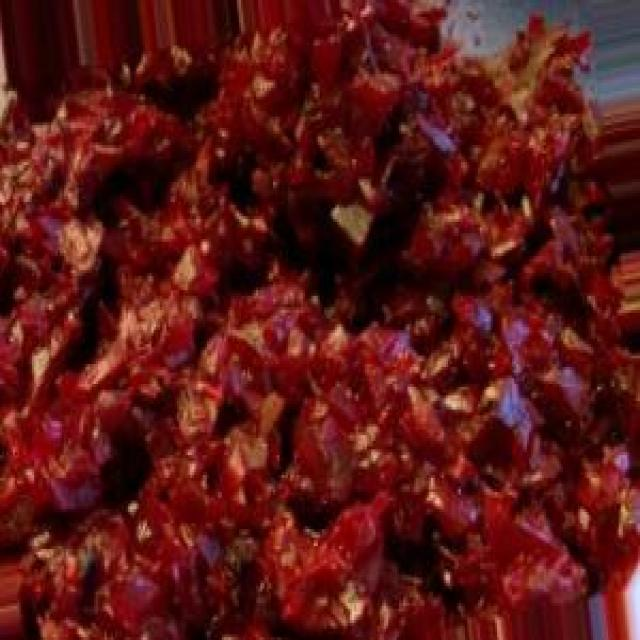healthy coral: (0, 5, 640, 638)
